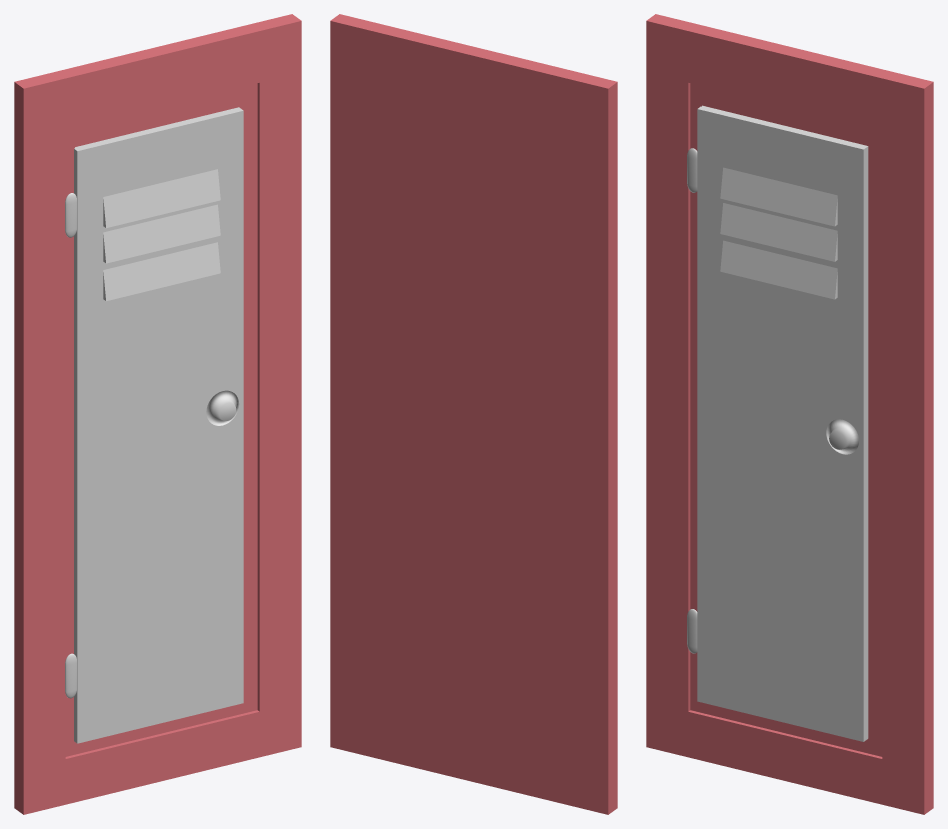
Rendered from Locker.fbx.
3 views of the same model, side by side, from view 1: azimuth 30°, elevation 25°; view 2: azimuth 150°, elevation 25°; view 3: azimuth 330°, elevation 25° (orthographic).
Visible parts, largest first — view 1: Cube, Cylinder; view 2: Cube; view 3: Cube, Cylinder.
Part boxes in pixels (x1,y1,x2,y2): Cube: (14,14,301,814); Cylinder: (65,107,243,743); Cube: (330,14,617,814); Cube: (646,14,933,814); Cylinder: (687,105,868,741).
Size of the model in its own units: 200 by 499 by 19.77.
